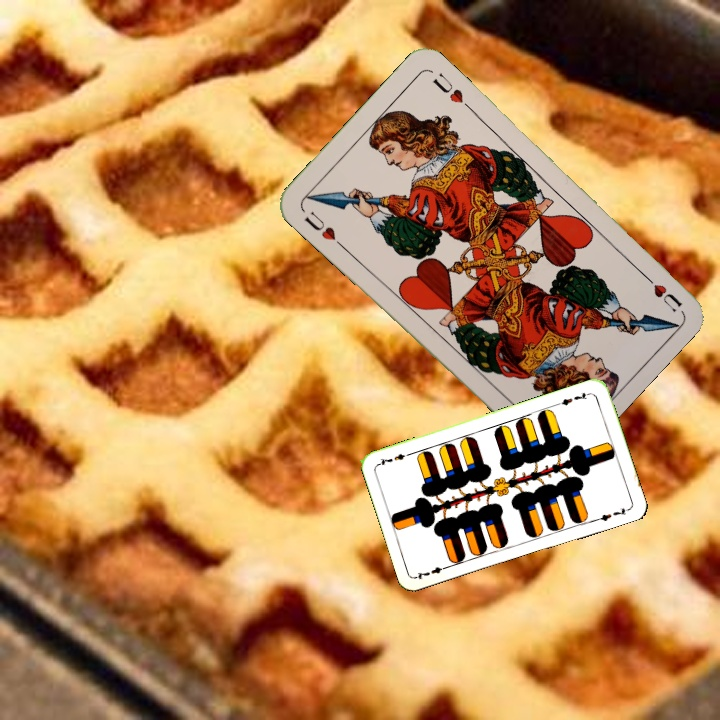E7: (412, 561, 452, 582), (554, 388, 593, 408)
HU: (636, 267, 685, 315), (300, 207, 346, 250)
